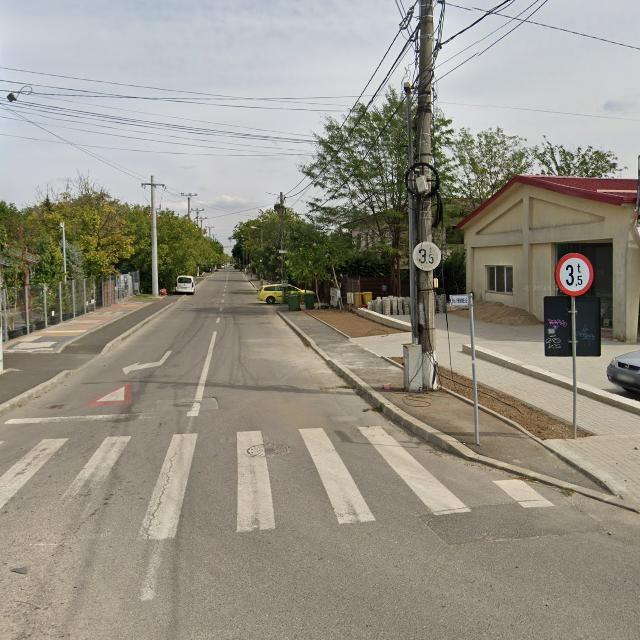prio_give_way: (80, 381, 132, 406)
